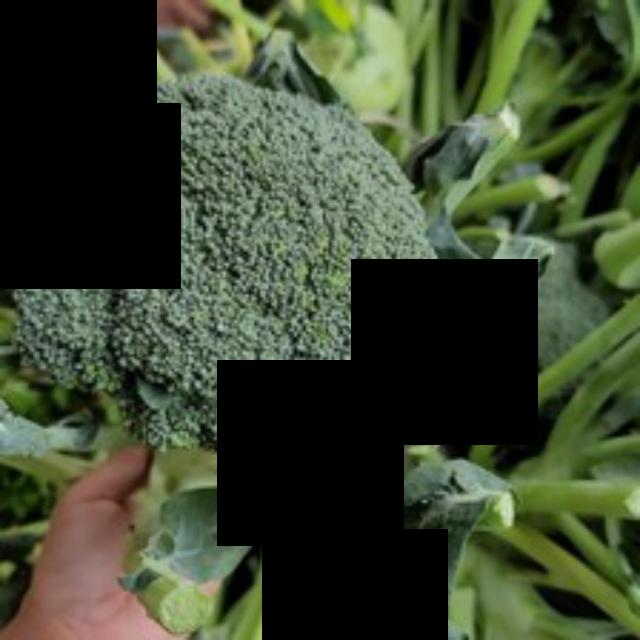broccoli: (7, 61, 461, 526)
